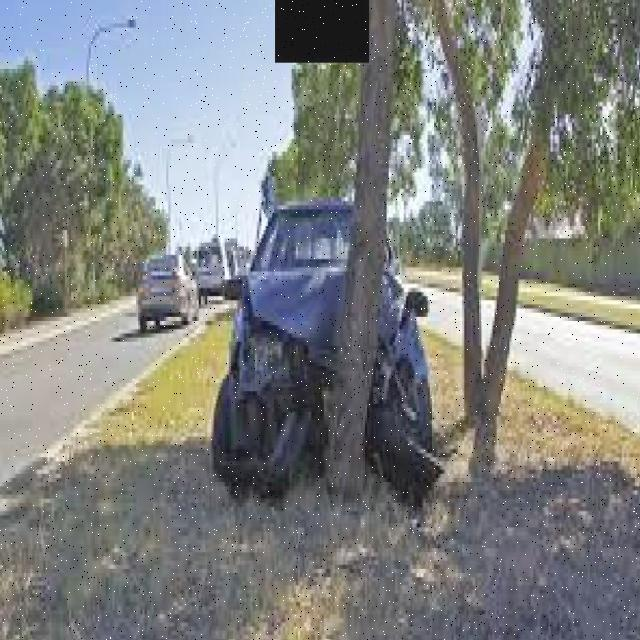normal: (140, 197, 286, 377)
single accident: (223, 213, 433, 466)
